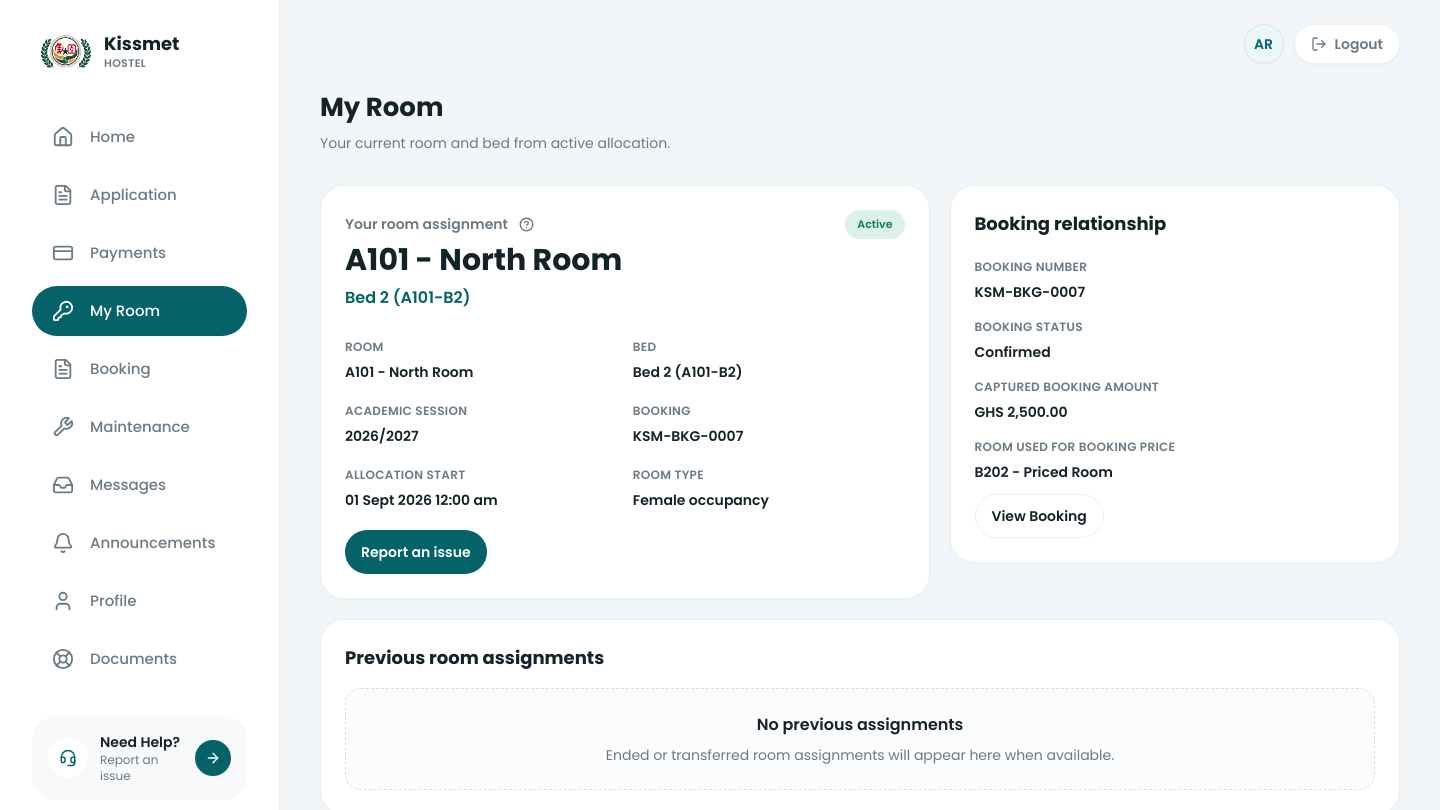
Test: resident my room › navigates to booking without duplicating allocation management
The image size is (1440, 810).
Expected: the text "Your room assignment" is shown, [345,210,540,238]
Click the link "View Booking": (1039, 516) [974,494,1104,538]
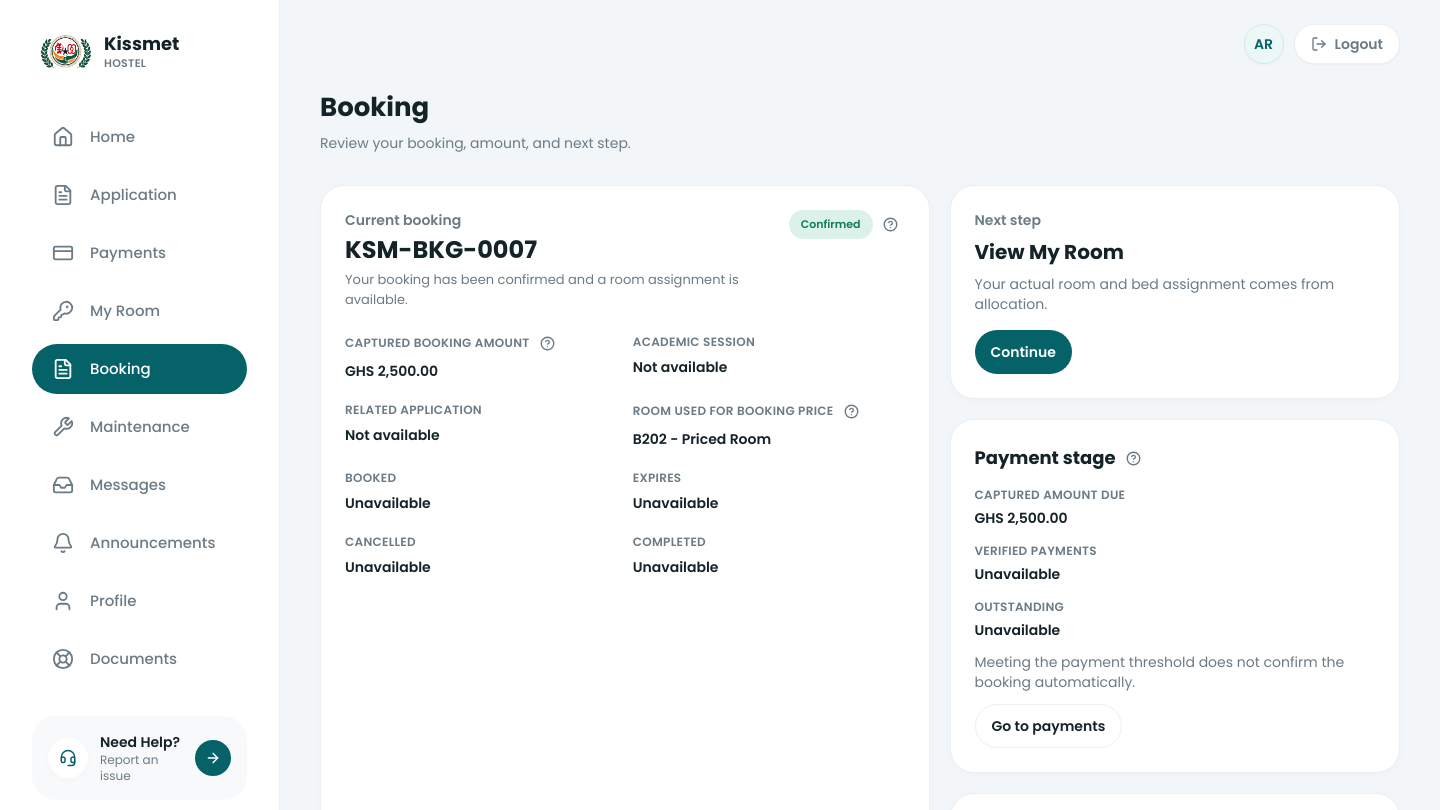
Now the heading "Booking" is shown, box [320,89,429,125]
